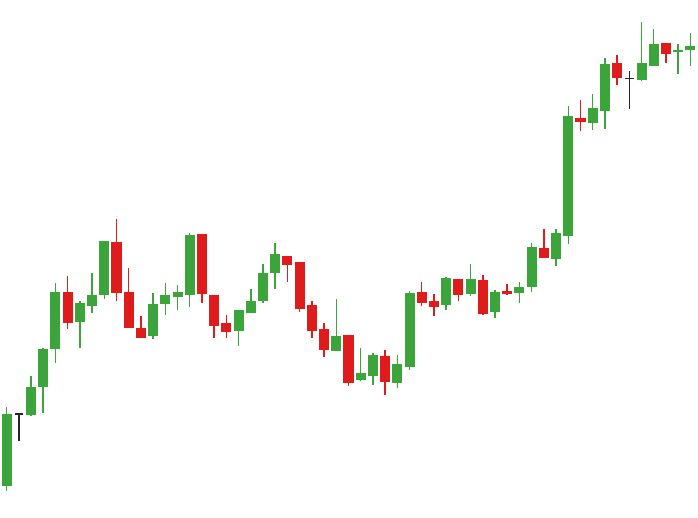buy: (137, 286, 246, 348)
